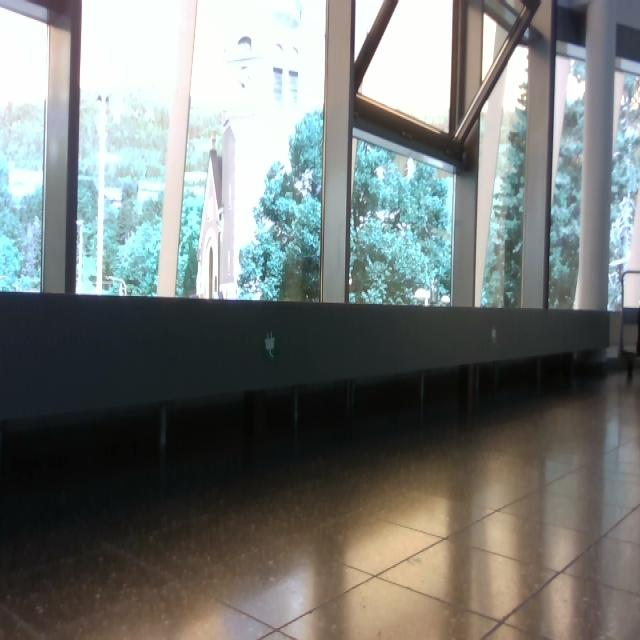door: (2, 1, 639, 638)
light bulb: (106, 276, 128, 296), (264, 332, 276, 358), (406, 157, 416, 181), (238, 36, 252, 52), (375, 166, 385, 181)
pillar: (573, 1, 617, 310), (156, 1, 199, 297), (320, 1, 356, 304)
tiled floor: (2, 364, 639, 638)
